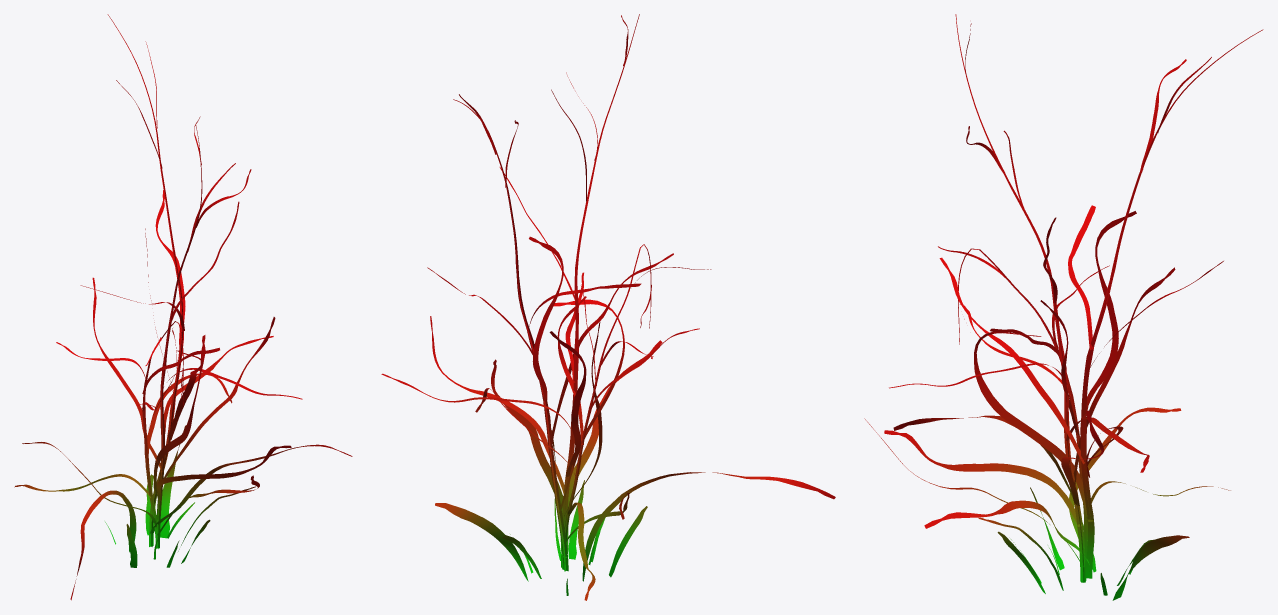
The model's file is tefocd1r_Var6_LOD0.fbx.
3 renders of one model, left to right at view 1: azimuth 30°, elevation 25°; view 2: azimuth 150°, elevation 25°; view 3: azimuth 270°, elevation 25°, orthographic. The views are drawn at different scales.
Parts seen in each view (by area): view 1: _abfb_Var6_LOD0; view 2: _abfb_Var6_LOD0; view 3: _abfb_Var6_LOD0.
Boxes of the visible parts, bbox=[...] form: _abfb_Var6_LOD0: bbox=[14, 14, 352, 600]; _abfb_Var6_LOD0: bbox=[381, 14, 835, 600]; _abfb_Var6_LOD0: bbox=[864, 14, 1263, 600].
Size of the model in its own units: 23.22 by 34.6 by 21.83.
